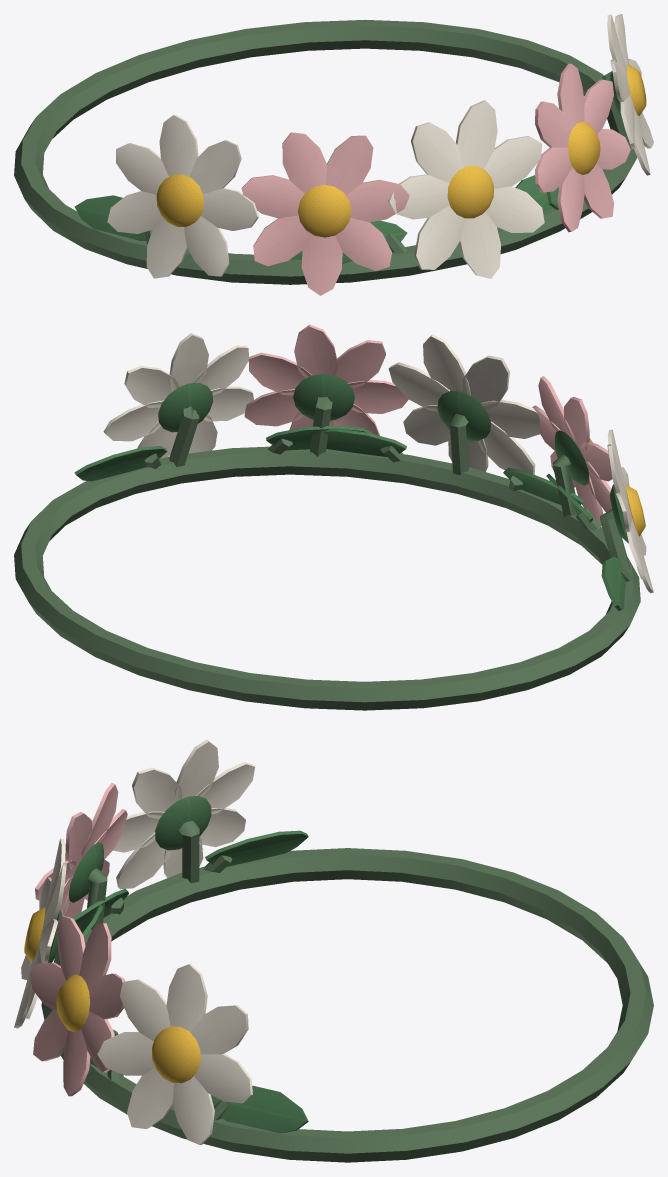
File: KD_FlowerCrown_Set.fbx
3 renders of one model, top to bottom at view 1: azimuth 30°, elevation 25°; view 2: azimuth 150°, elevation 25°; view 3: azimuth 270°, elevation 25°, orthographic. The views are drawn at different scales.
Parts seen in each view (by area): view 1: KD_FlowerCrown_Set; view 2: KD_FlowerCrown_Set; view 3: KD_FlowerCrown_Set.
Boxes of the visible parts, x1,y1,x2,y2 form: KD_FlowerCrown_Set: (14, 14, 653, 295); KD_FlowerCrown_Set: (14, 324, 653, 710); KD_FlowerCrown_Set: (14, 739, 653, 1162).
Size of the model in its own units: 0.157 by 0.0423 by 0.1431.
Materials: 1 (1 with a texture image).
